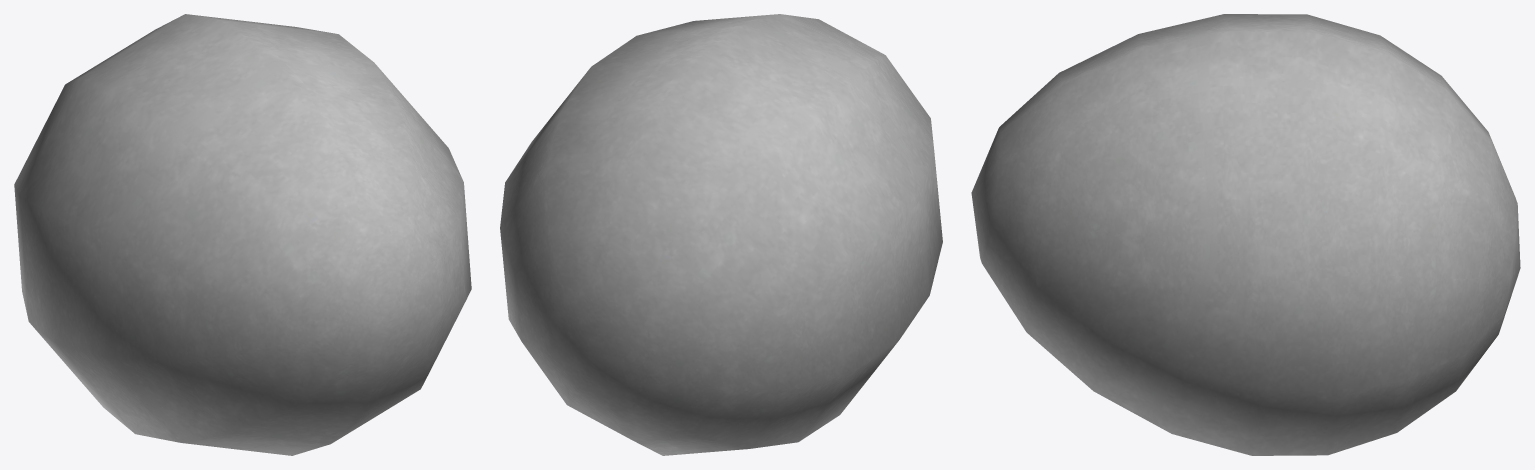
Rendered from SaltedEgg.obj.
3 renders of one model, left to right at view 1: azimuth 30°, elevation 25°; view 2: azimuth 150°, elevation 25°; view 3: azimuth 270°, elevation 25°, orthographic. The views are drawn at different scales.
Visible parts, largest first — view 1: lba_egg_0_mod; view 2: lba_egg_0_mod; view 3: lba_egg_0_mod.
Part boxes in pixels (x1,y1,x2,y2): lba_egg_0_mod: (14, 14, 471, 455); lba_egg_0_mod: (500, 14, 942, 455); lba_egg_0_mod: (971, 14, 1520, 455).
Size of the model in its own units: 0.7741 by 0.8062 by 0.9843.
